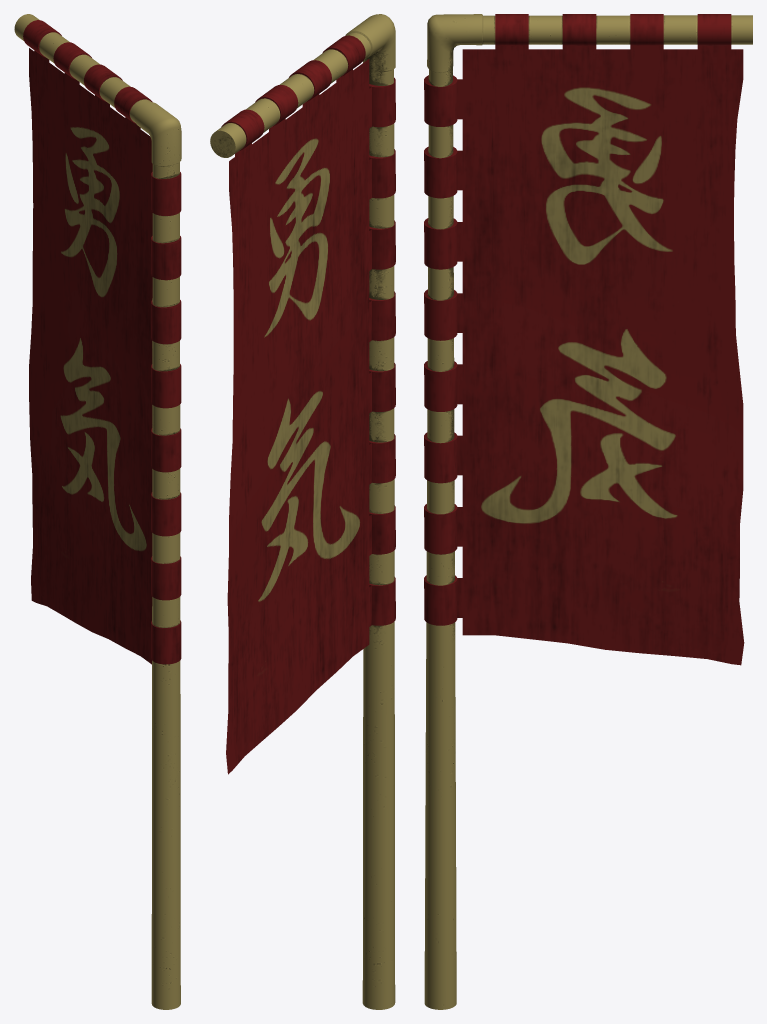
Rendered from SM_Flags_02.fbx.
The picture shows the model from 3 angles, left to right: view 1: azimuth 30°, elevation 25°; view 2: azimuth 150°, elevation 25°; view 3: azimuth 270°, elevation 25°; orthographic projection. The views are drawn at different scales.
Parts seen in each view (by area): view 1: SM_Flags_02; view 2: SM_Flags_02; view 3: SM_Flags_02.
Part boxes in pixels (x1,y1,x2,y2): SM_Flags_02: (14,14,181,1009); SM_Flags_02: (210,14,395,1009); SM_Flags_02: (424,14,752,1009).
Bounding box in the file's own units: 19.88 × 186 × 616.
Materials: 1 (1 with a texture image).
